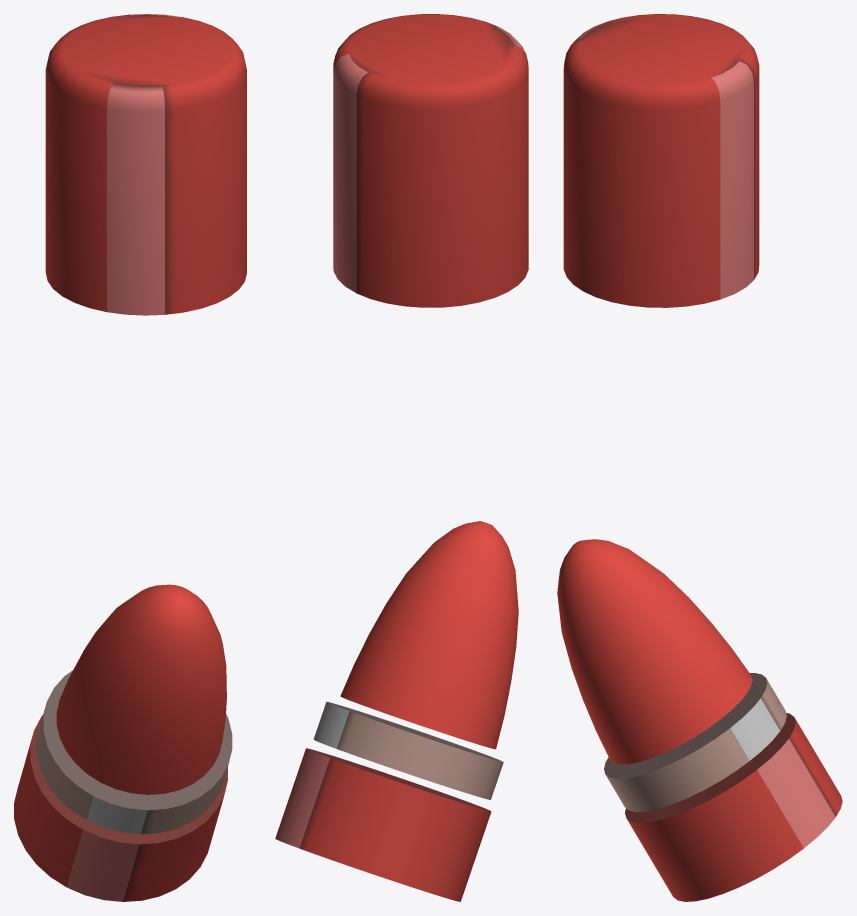
Rendered from tool_marker_medium.glb.
3 renders of one model, left to right at view 1: azimuth 30°, elevation 25°; view 2: azimuth 150°, elevation 25°; view 3: azimuth 270°, elevation 25°, orthographic. The views are drawn at different scales.
Visible parts, largest first — view 1: Cap.001, Marker.001; view 2: Marker.001, Cap.001; view 3: Marker.001, Cap.001.
Boxes of the visible parts, <box> form: Cap.001: <box>45,14,246,315</box>; Marker.001: <box>14,584,232,901</box>; Marker.001: <box>275,521,518,901</box>; Cap.001: <box>333,14,528,307</box>; Marker.001: <box>557,539,842,901</box>; Cap.001: <box>563,14,759,307</box>.
Bounding box in the file's own units: 2.45 × 10.58 × 3.28.
